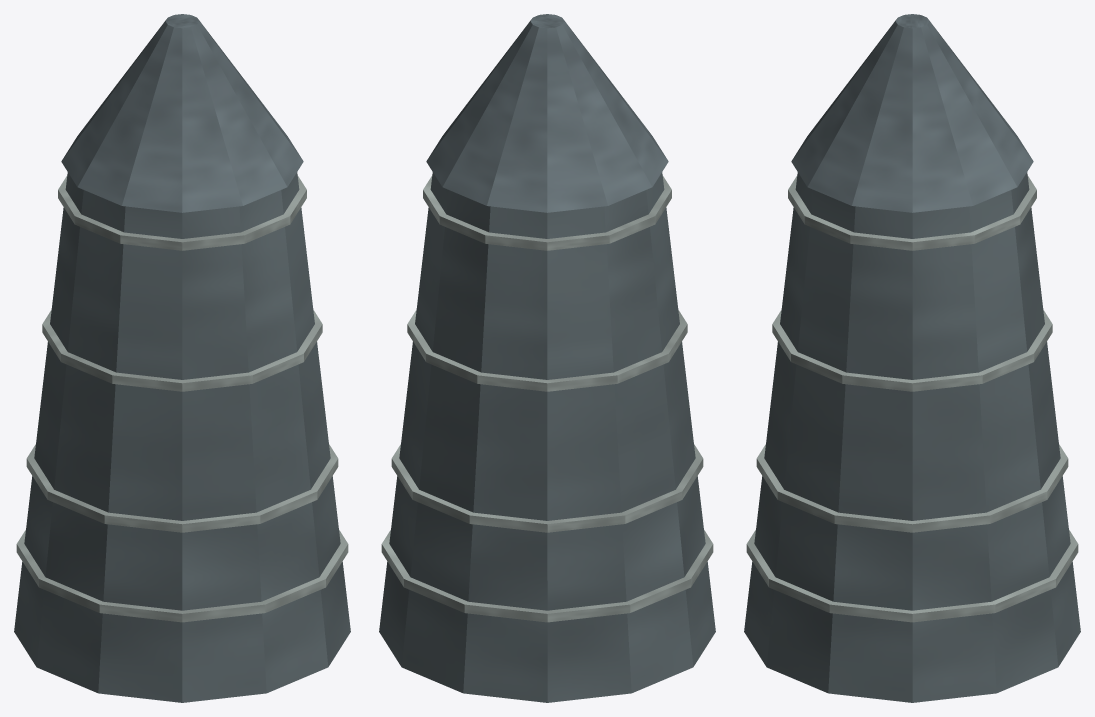
Rendered from silo_metal.fbx.
The picture shows the model from 3 angles, left to right: view 1: azimuth 30°, elevation 25°; view 2: azimuth 150°, elevation 25°; view 3: azimuth 270°, elevation 25°; orthographic projection.
Visible parts, largest first — view 1: silo_metal; view 2: silo_metal; view 3: silo_metal.
Part boxes in pixels (x1,y1,x2,y2): silo_metal: (14,14,350,702); silo_metal: (379,14,715,702); silo_metal: (744,14,1080,702).
Bounding box in the file's own units: 500 × 1000 × 500.
Materials: 1 (1 with a texture image).
